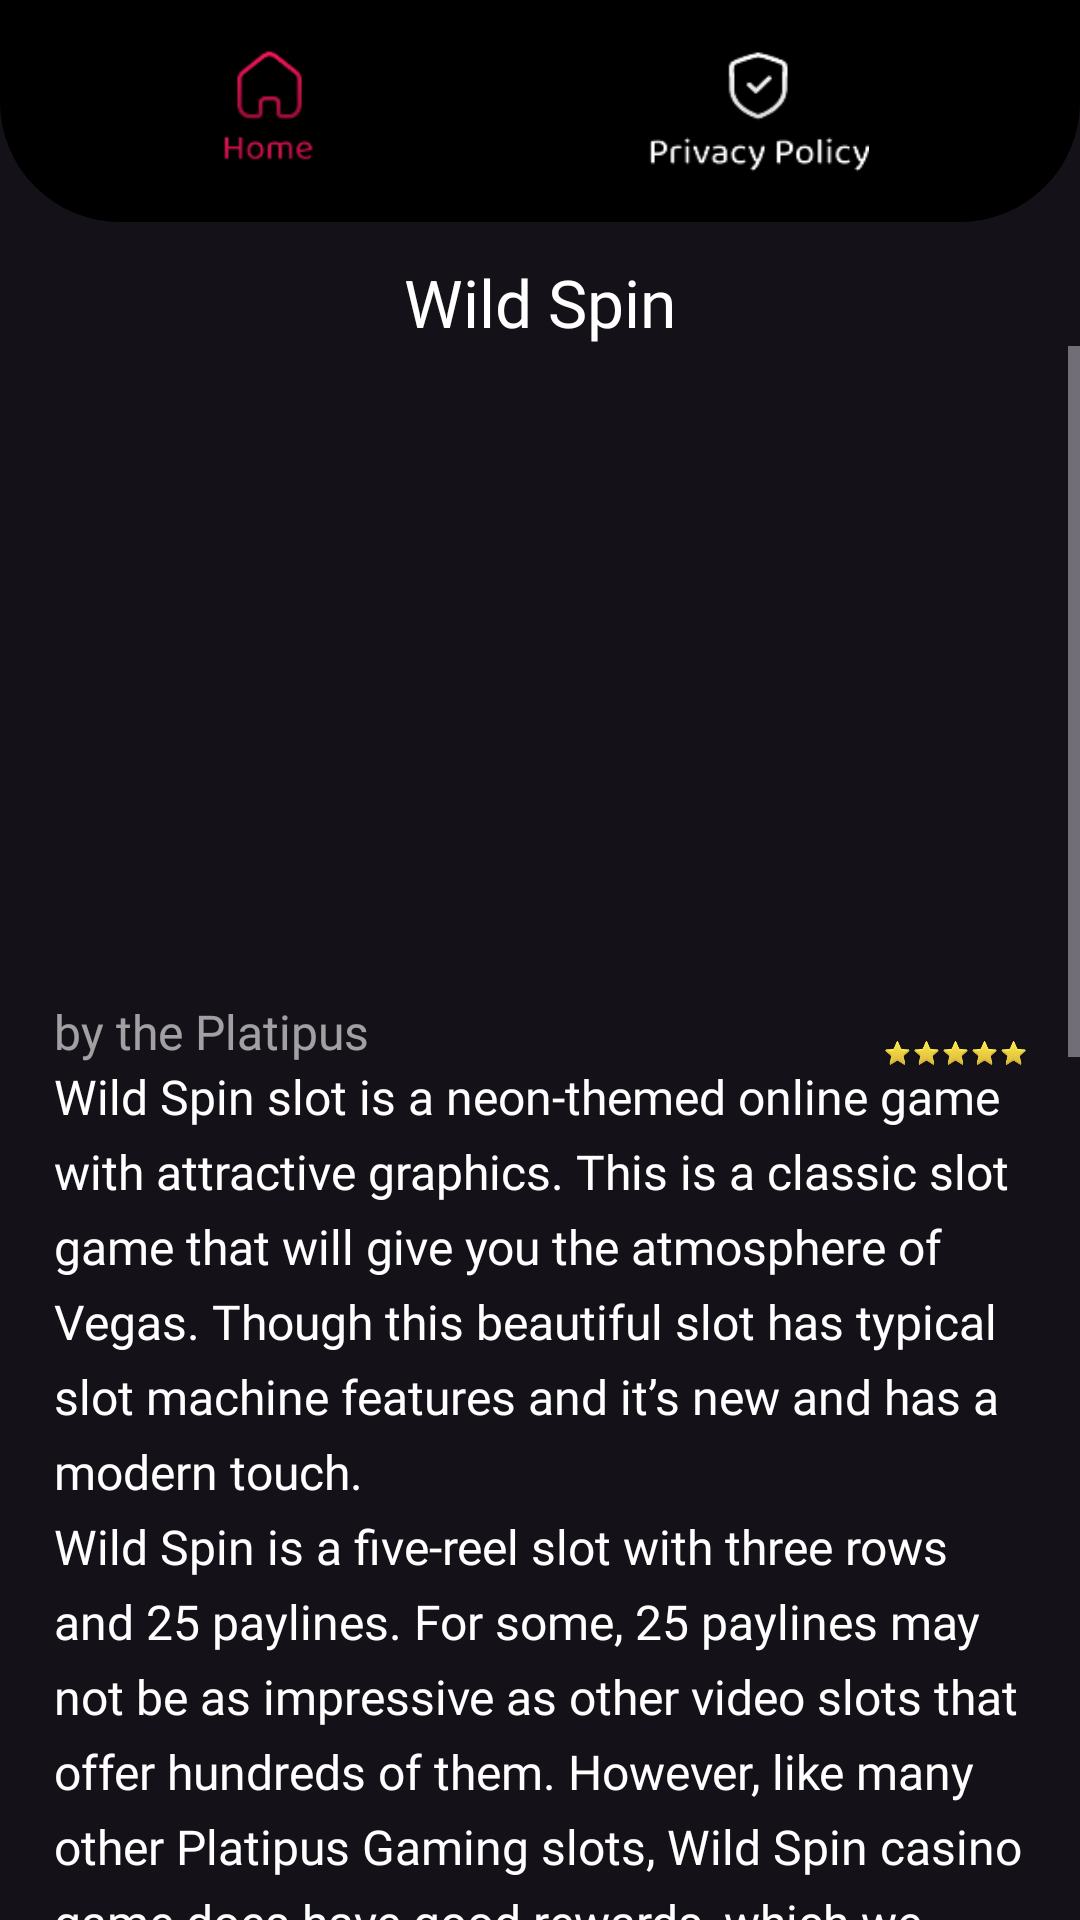

Named icons in this screenshot (1080x1920) and their centers, [x,y]:
five stars: [955,1053]
